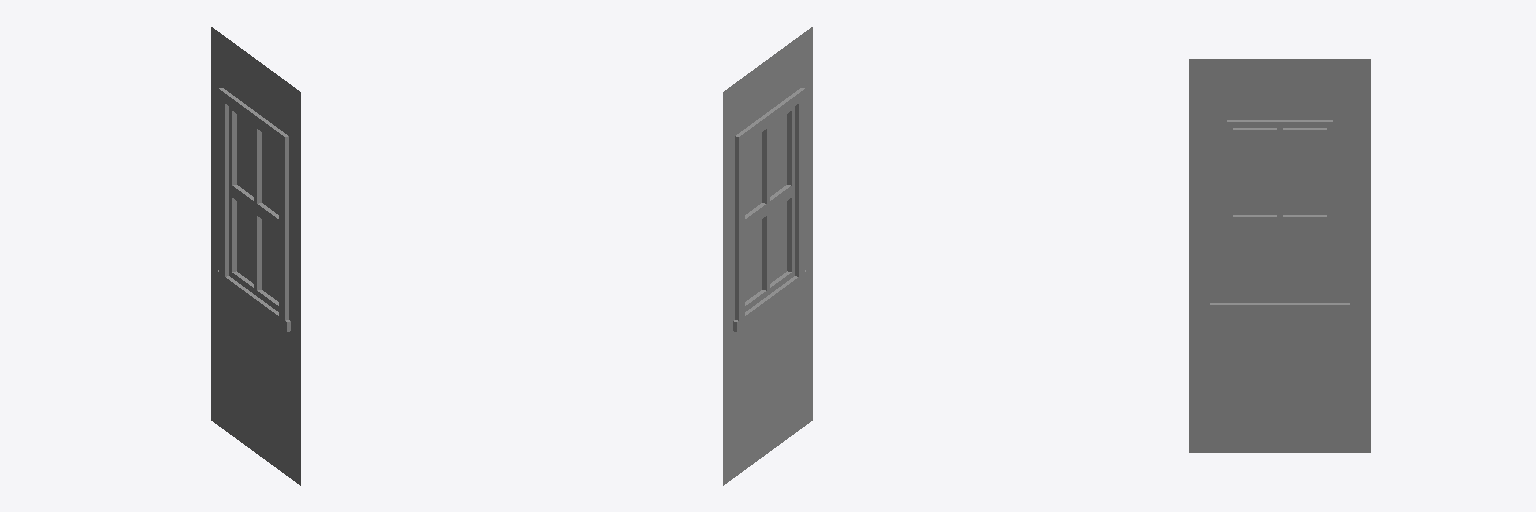
The model's file is Window3.obj.
3 views of the same model, side by side, from view 1: azimuth 30°, elevation 25°; view 2: azimuth 150°, elevation 25°; view 3: azimuth 270°, elevation 25° (orthographic).
Visible parts, largest first — view 1: Window3; view 2: Window3; view 3: Window3.
Boxes of the visible parts, box(x1,y1,x2,y2) form: Window3: box(211, 27, 300, 485); Window3: box(723, 27, 812, 485); Window3: box(1189, 59, 1370, 452).
Size of the model in its own units: 0.0672 by 3 by 1.25.